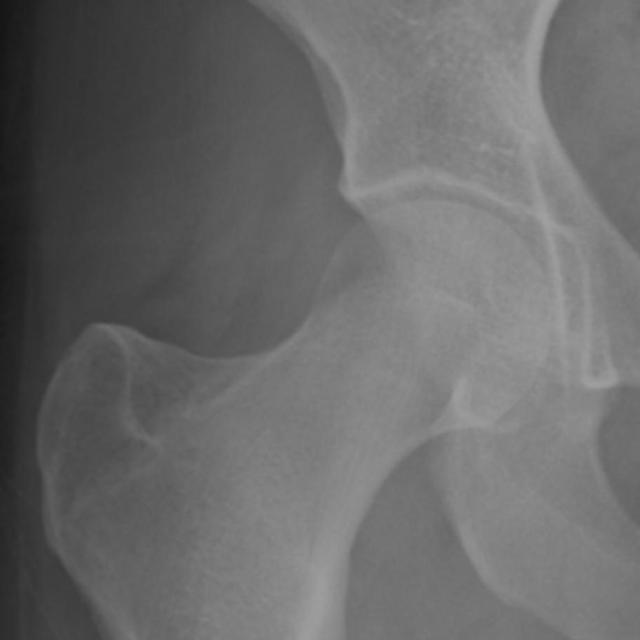Fitted_femural_head: (242, 196, 432, 242)
